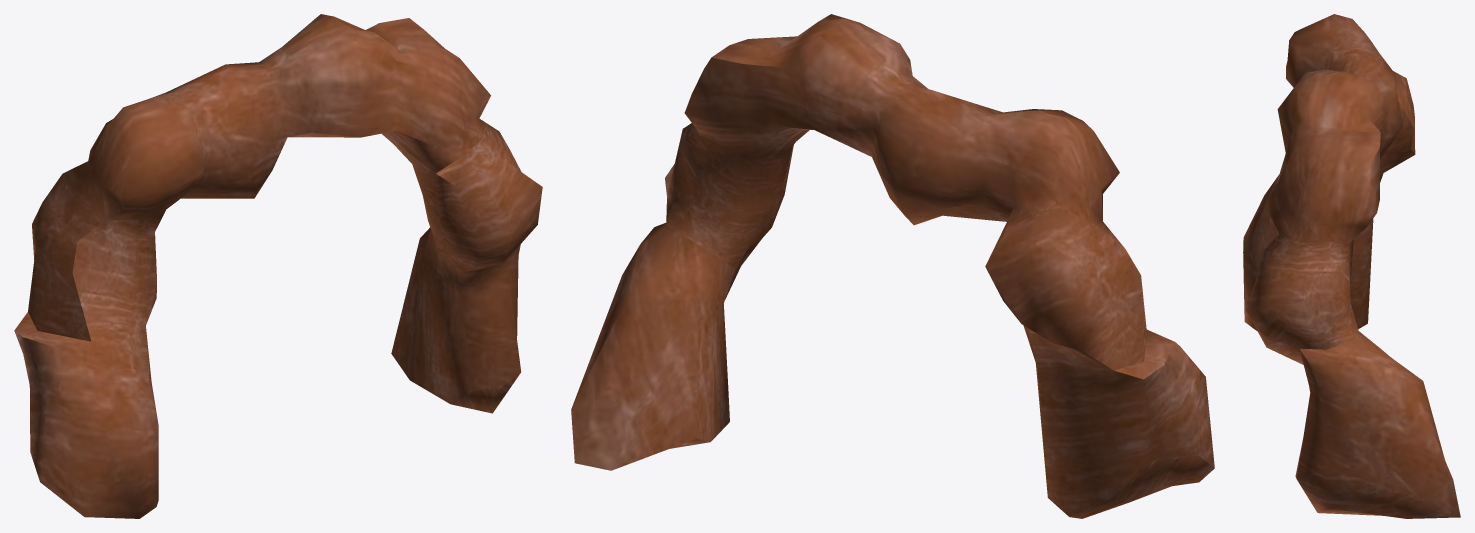
The model's file is Canyon_Rock_Formations_11.glb.
3 views of the same model, side by side, from view 1: azimuth 30°, elevation 25°; view 2: azimuth 150°, elevation 25°; view 3: azimuth 270°, elevation 25° (orthographic). The views are drawn at different scales.
Visible parts, largest first — view 1: Canyon_Rock_Formations_11_0; view 2: Canyon_Rock_Formations_11_0; view 3: Canyon_Rock_Formations_11_0.
Part boxes in pixels (<box>): Canyon_Rock_Formations_11_0: <box>14,14,542,518</box>; Canyon_Rock_Formations_11_0: <box>571,14,1214,518</box>; Canyon_Rock_Formations_11_0: <box>1243,14,1460,518</box>.
Size of the model in its own units: 22.21 by 17.27 by 9.05.
Materials: 1 (1 with a texture image).
